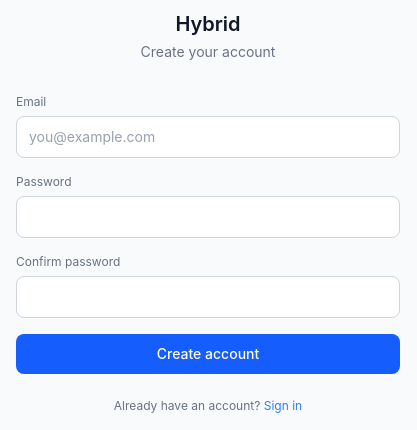
Test: SignupPage › shows the "check your email" screen when signUp returns no session (confirmation on)
The image size is (417, 430).
Step 1. Type "slade@example.com" into the field with placeholder "you@example.com" → (208, 137), box 16,116 -> 400,158
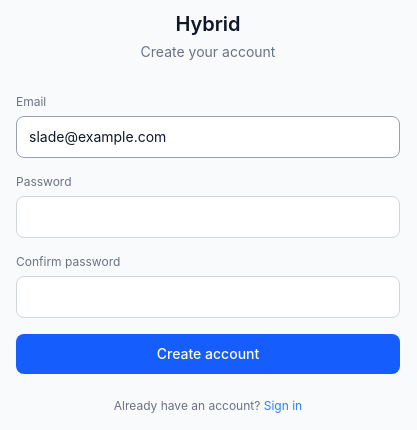
Step 2. Type "hunter2" into the 1st password field → (208, 217), box 16,196 -> 400,238
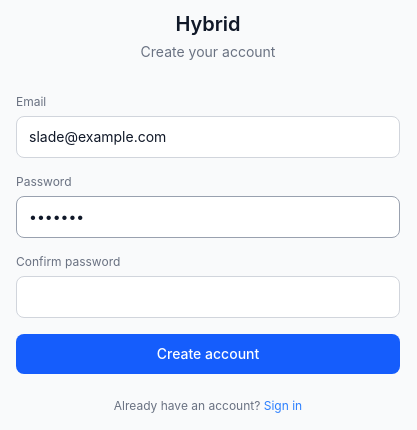
Step 3. Type "hunter2" into the password field below "Confirm password" → (208, 297), box 16,276 -> 400,318
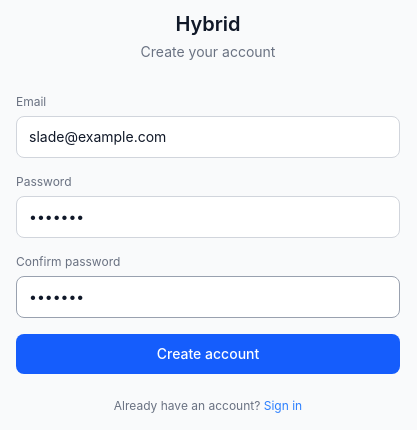
Step 4. Click the button "Create account" → (208, 354), box 16,334 -> 400,374
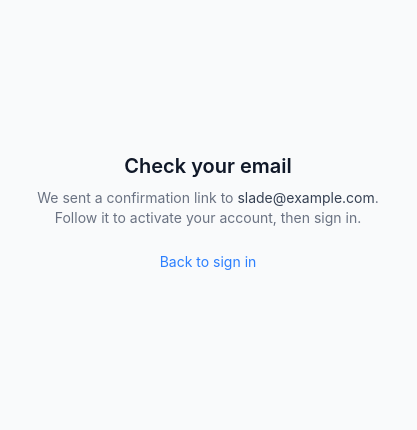
Expected: the heading "Check your email" is shown, 124,154 -> 292,178
